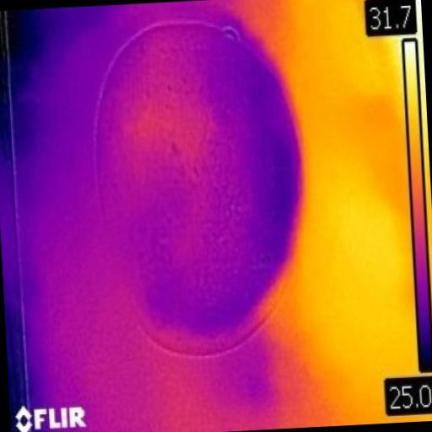mango: (96, 23, 300, 352)
